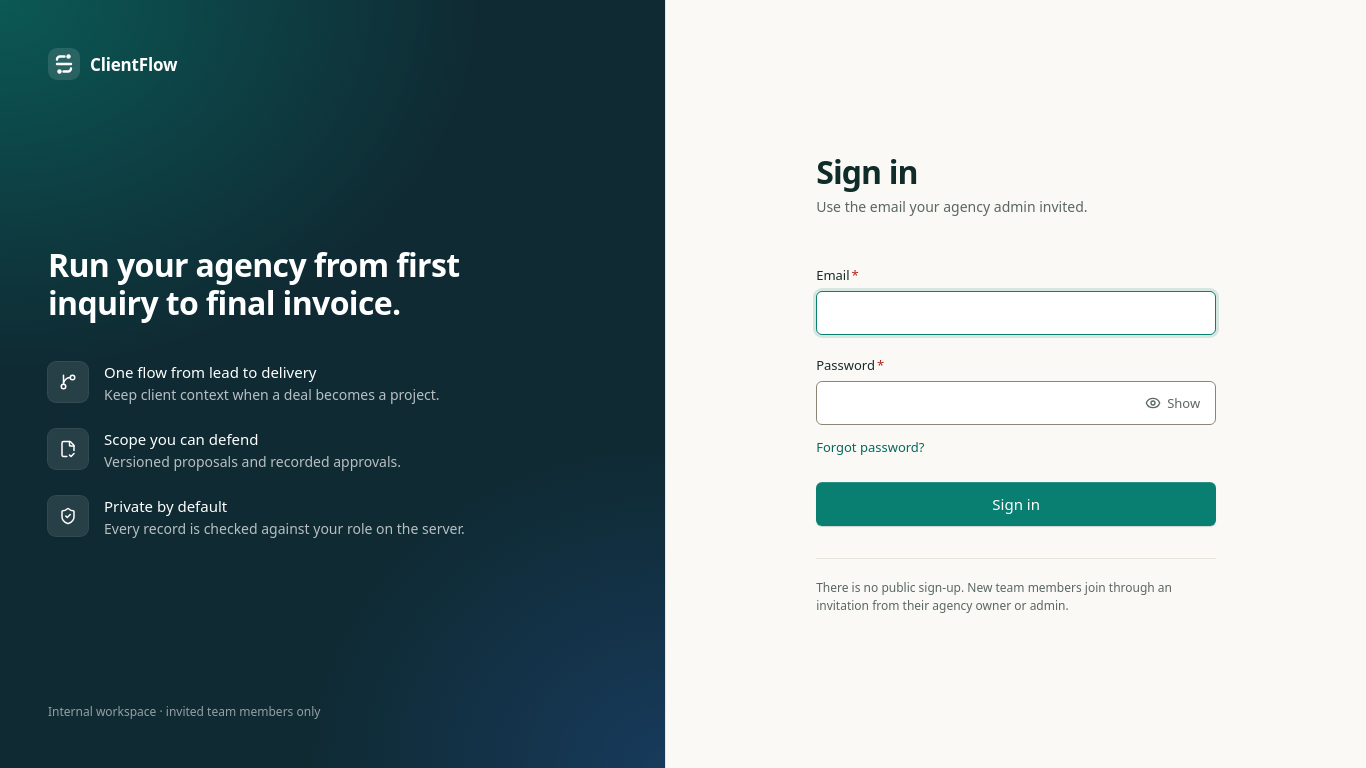
Test: LoginPage › shows one generic message for wrong credentials and clears the password
In the field labelled "Email*": x=1016, y=313 [816,291,1216,335], type "nour@agency.test"
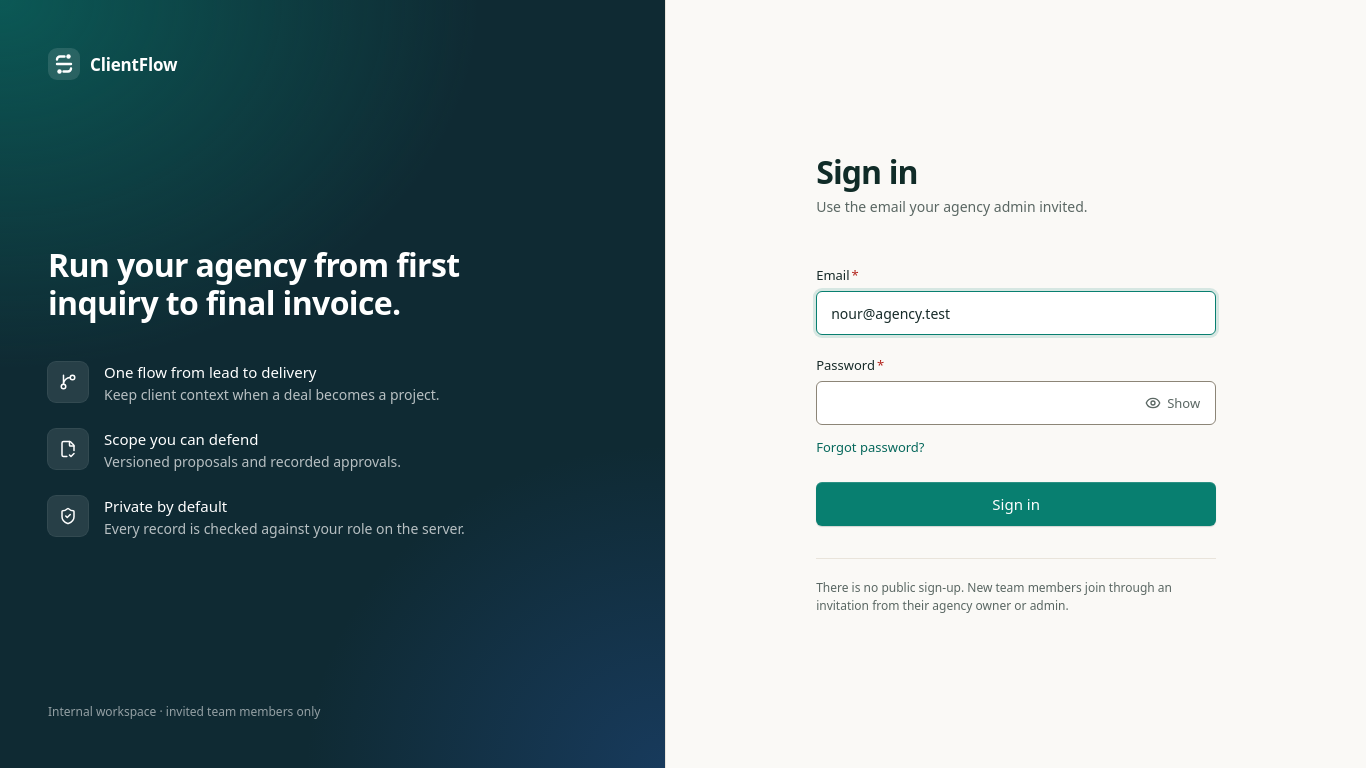
In the password field labelled "Password*": x=1016, y=403 [816,381,1216,425], type "wrong-password"
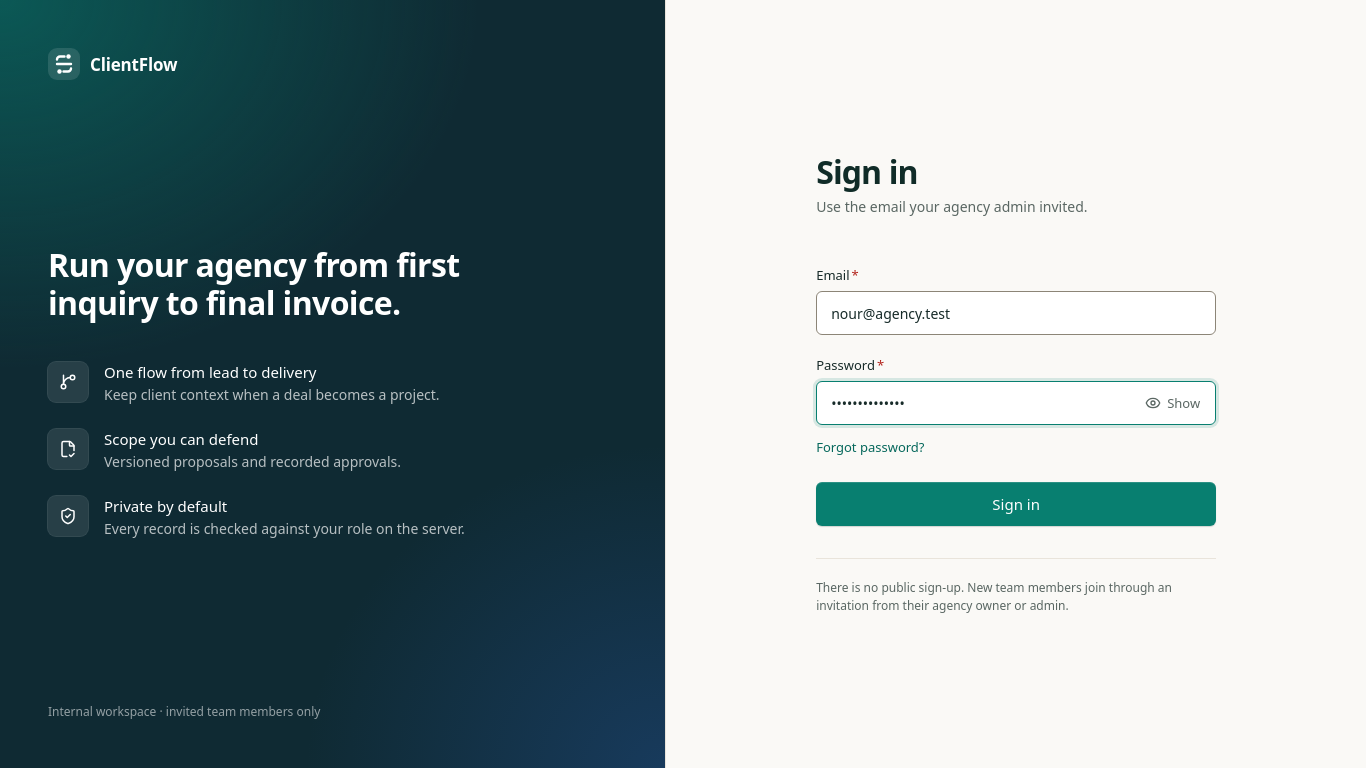
Click the button "Sign in": x=1016, y=504 [816,482,1216,526]
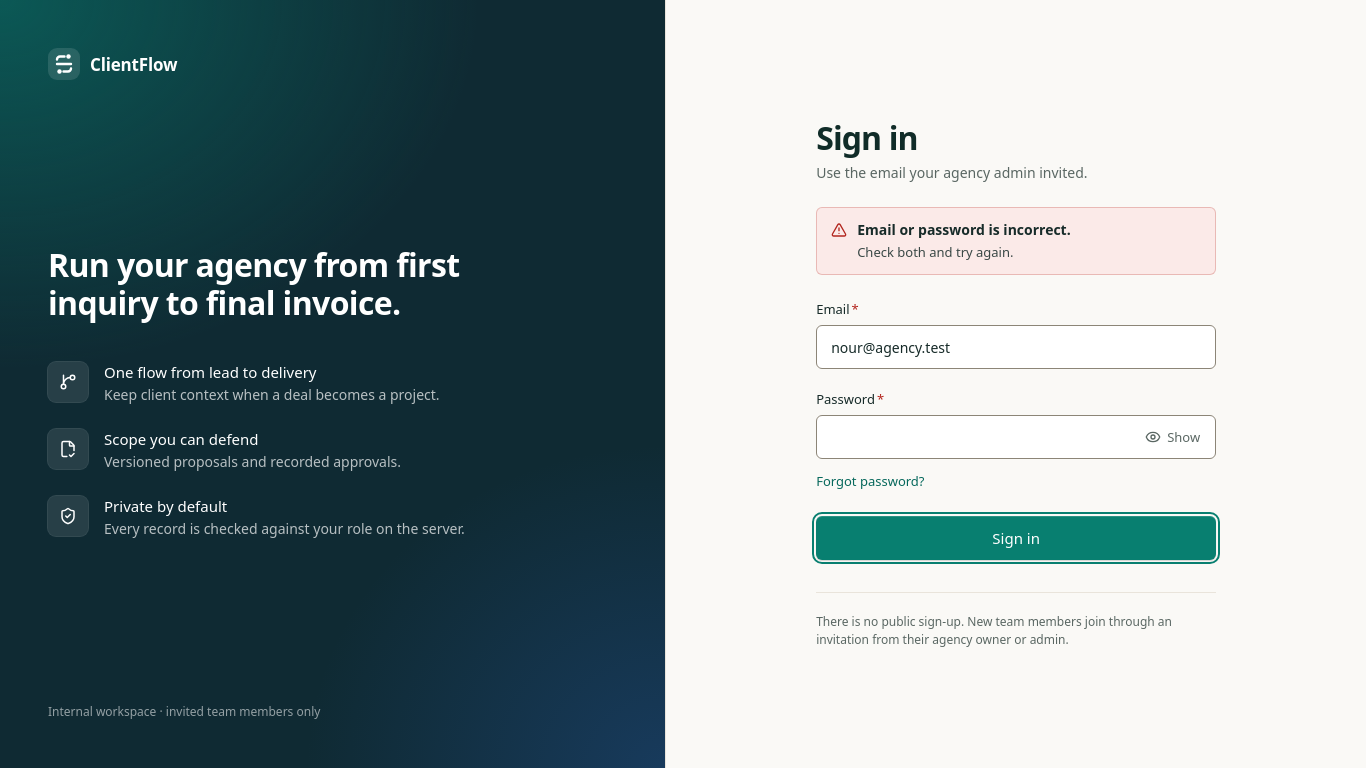
Check: the message shows "Email or password is incorrect.", box [857,220,1071,239]
Check: the password field labelled "Password*" is empty, box [816,415,1216,459]
